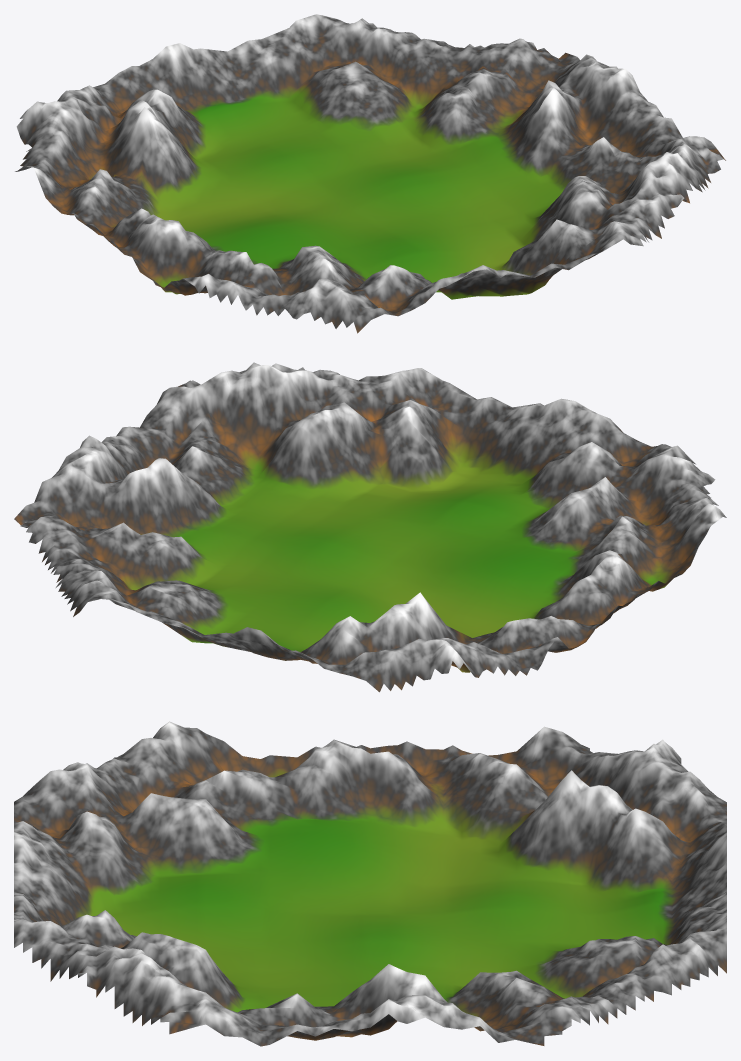
File: SM_Terrain5K.fbx
The picture shows the model from 3 angles, top to bottom: view 1: azimuth 30°, elevation 25°; view 2: azimuth 150°, elevation 25°; view 3: azimuth 270°, elevation 25°; orthographic projection. The views are drawn at different scales.
Visible parts, largest first — view 1: Terrain5_3k; view 2: Terrain5_3k; view 3: Terrain5_3k.
Boxes of the visible parts, x1=… form: Terrain5_3k: x1=15, y1=14, x2=725, y2=333; Terrain5_3k: x1=14, y1=362, x2=726, y2=692; Terrain5_3k: x1=14, y1=721, x2=726, y2=1046.
Size of the model in its own units: 1462 by 212 by 1462.
1 material, 1 textured.
